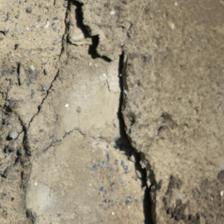Crack: (21, 0, 81, 137), (45, 26, 76, 138)
